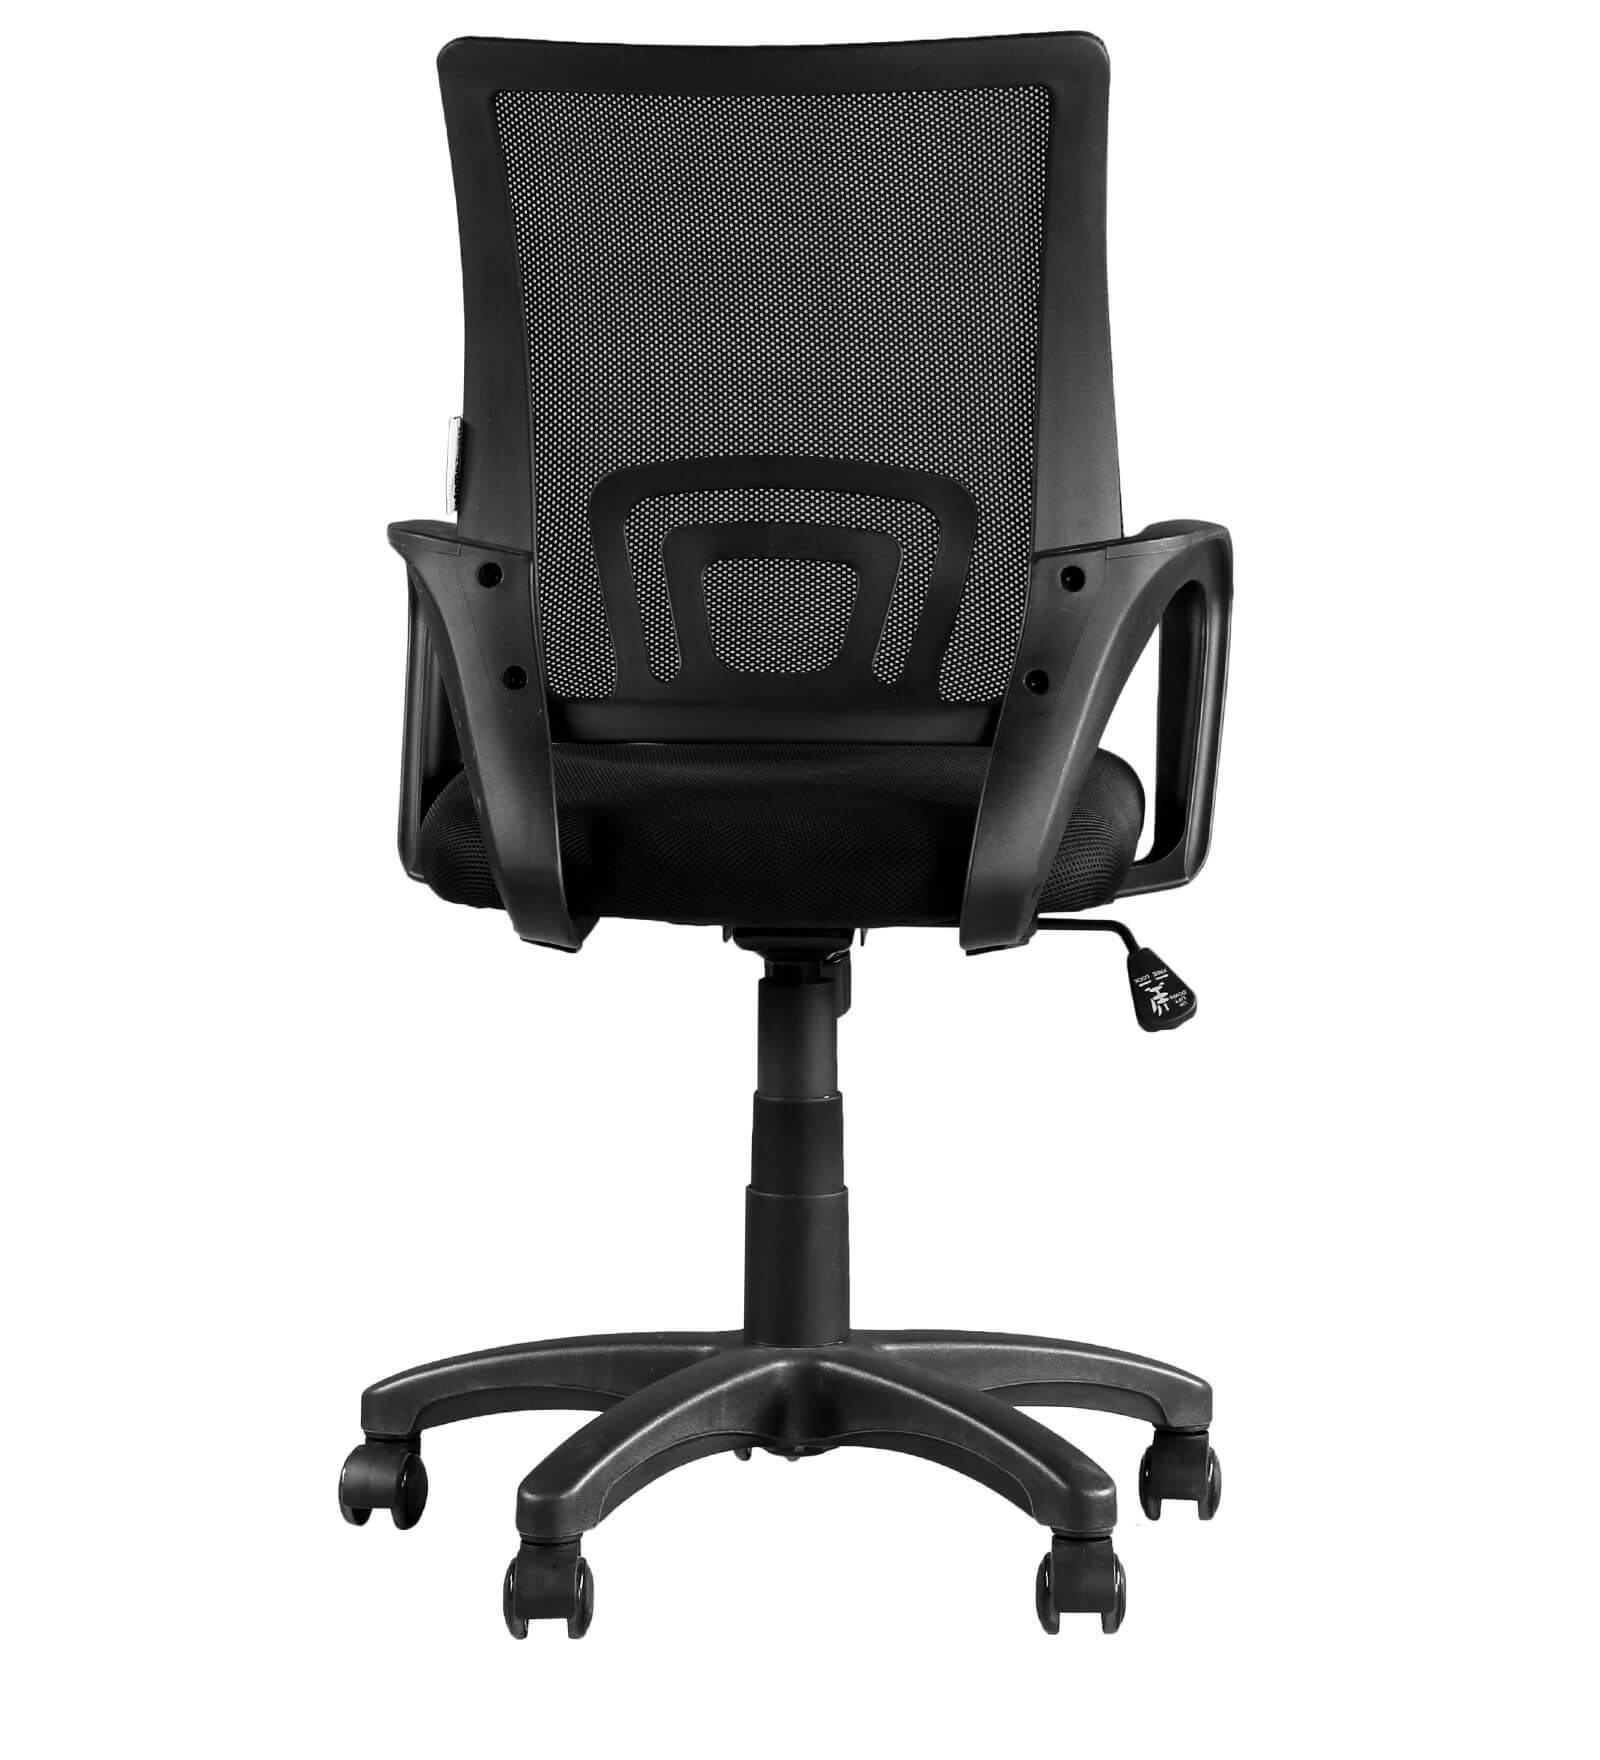Regus Low Back Mesh Chair in Green Colour by Hometown: (297, 11, 1313, 1674)
